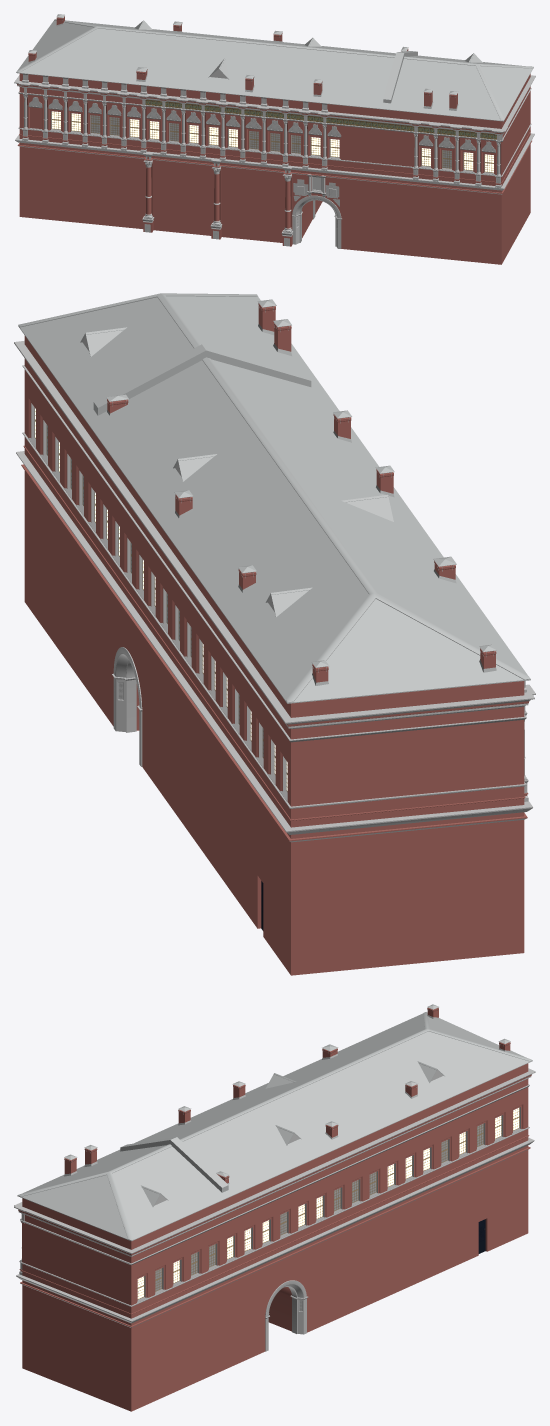
File: Dom1.FBX
3 renders of one model, top to bottom at view 1: azimuth 30°, elevation 25°; view 2: azimuth 150°, elevation 25°; view 3: azimuth 270°, elevation 25°, orthographic. The views are drawn at different scales.
Visible parts, largest first — view 1: 01080-50@72767; view 2: 01080-50@72767; view 3: 01080-50@72767.
Boxes of the visible parts, x1,y1,x2,y2 form: 01080-50@72767: [14, 14, 535, 264]; 01080-50@72767: [14, 293, 535, 975]; 01080-50@72767: [14, 1004, 535, 1411].
Size of the model in its own units: 47.44 by 19.89 by 45.23.
1 material, 1 textured.
